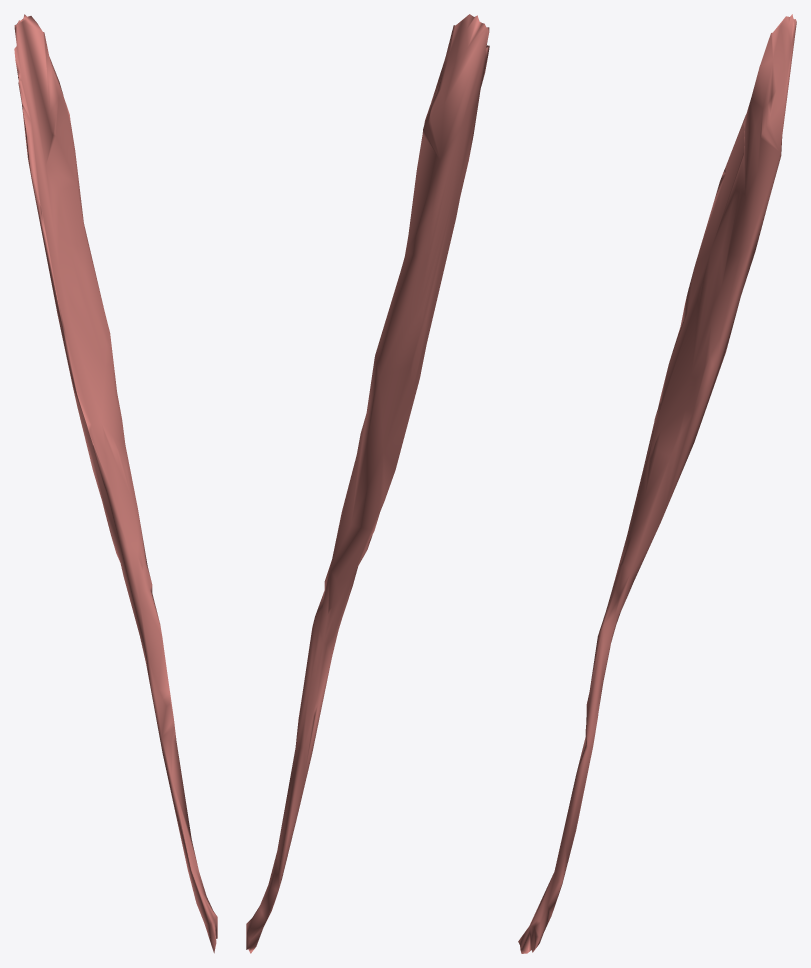
3 views of the same model, side by side, from view 1: azimuth 30°, elevation 25°; view 2: azimuth 210°, elevation 25°; view 3: azimuth 270°, elevation 25° (orthographic). The views are drawn at different scales.
Visible parts, largest first — view 1: ZA_ae069275b5e3055a; view 2: ZA_ae069275b5e3055a; view 3: ZA_ae069275b5e3055a.
Boxes of the visible parts, left/top/right/bottom form: ZA_ae069275b5e3055a: left=14, top=14, right=217, bottom=953; ZA_ae069275b5e3055a: left=246, top=14, right=489, bottom=953; ZA_ae069275b5e3055a: left=518, top=14, right=796, bottom=953.
Bounding box in the file's own units: 0.0231 × 0.2049 × 0.057.
